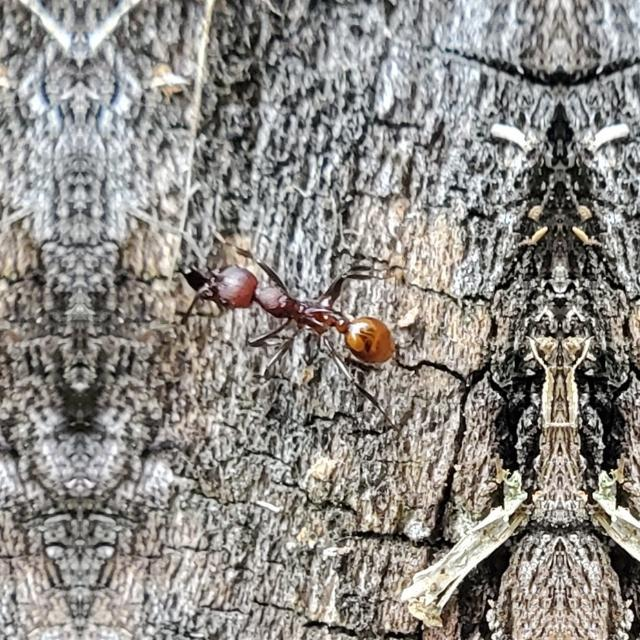Apheanogaster: (189, 226, 415, 392)
